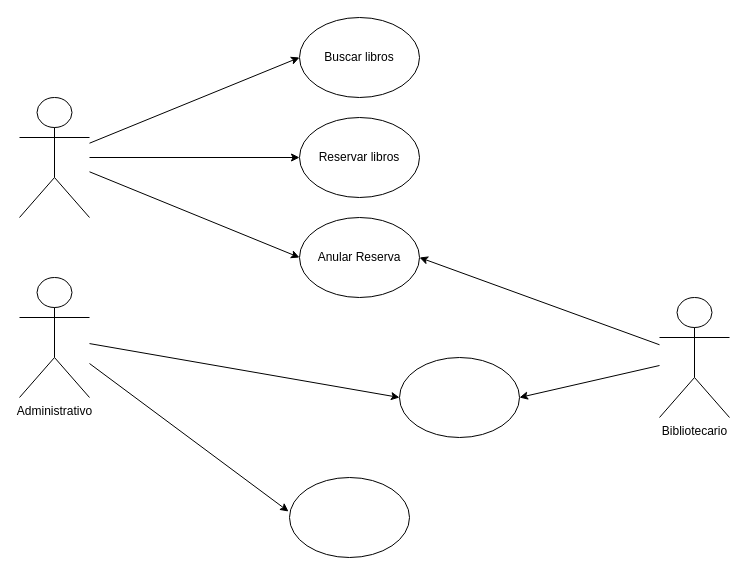
This 747x575 diagram has some shape labels left out. Each missing label, with the centre of its shape:
"dar de baja libros" goes at (349,517).
"Insertar libro" goes at (459,397).
"Lector" goes at (54,157).
